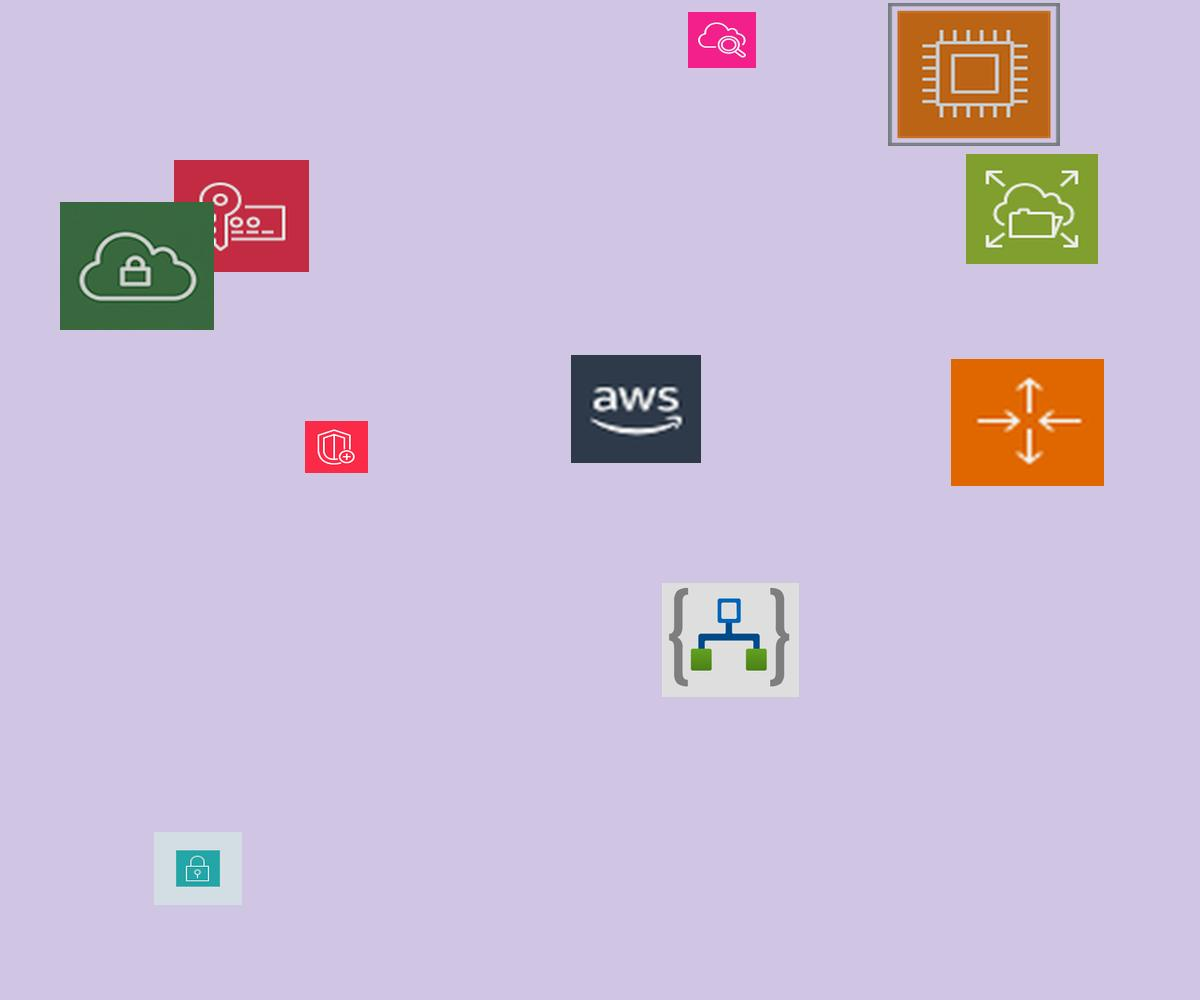AWS-Category_Compute: (888, 3, 1060, 146)
AWS-Cloud-logo: (571, 355, 701, 463)
AWS-CloudWatch: (688, 12, 756, 68)
AWS-EFS: (966, 154, 1098, 264)
AWS-Key-Management-Service: (174, 160, 309, 272)
AWS-Private-subnet: (154, 832, 242, 905)
AWS-Private_vpc: (60, 202, 214, 330)
AWS-Scaling-group: (951, 359, 1104, 486)
AWS-Shield: (305, 421, 368, 473)
Azure_integration-204-Logic-Apps: (662, 583, 799, 697)
